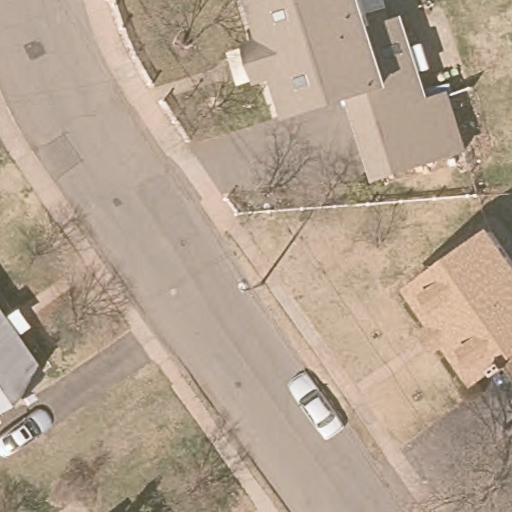DT: (236, 277, 265, 293)
